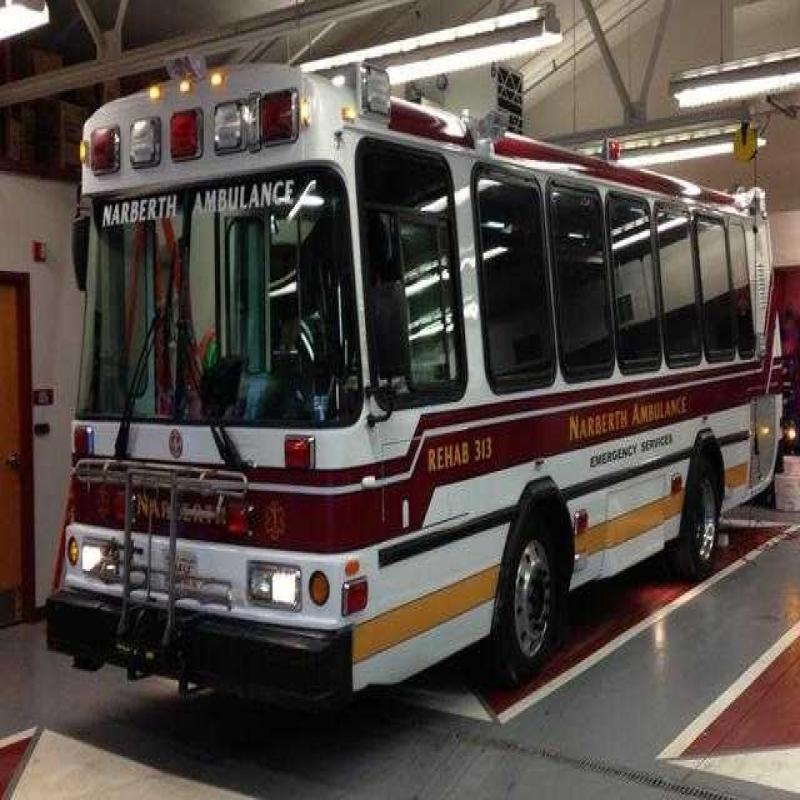AmbulanceSiren: (59, 87, 325, 167)
